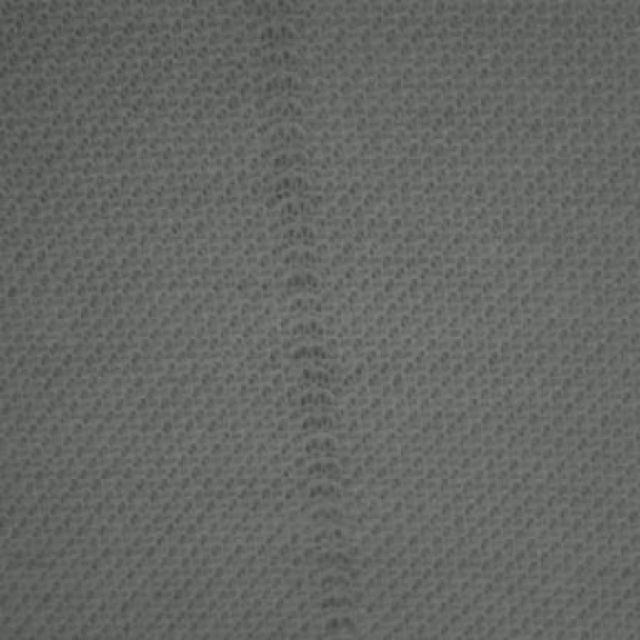Line: (250, 0, 360, 637)
